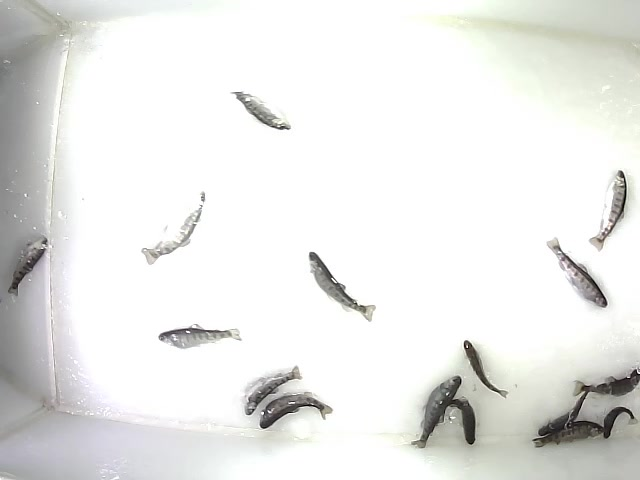fish: (140, 190, 208, 268), (307, 249, 377, 323), (545, 235, 609, 309), (410, 374, 463, 450), (587, 168, 627, 253), (242, 365, 304, 416), (537, 382, 594, 436), (259, 391, 334, 430), (462, 338, 509, 400), (228, 88, 292, 132), (6, 236, 48, 298), (156, 322, 244, 350), (530, 421, 605, 450), (570, 368, 640, 397), (442, 396, 476, 446), (564, 384, 594, 429), (602, 406, 639, 439)
